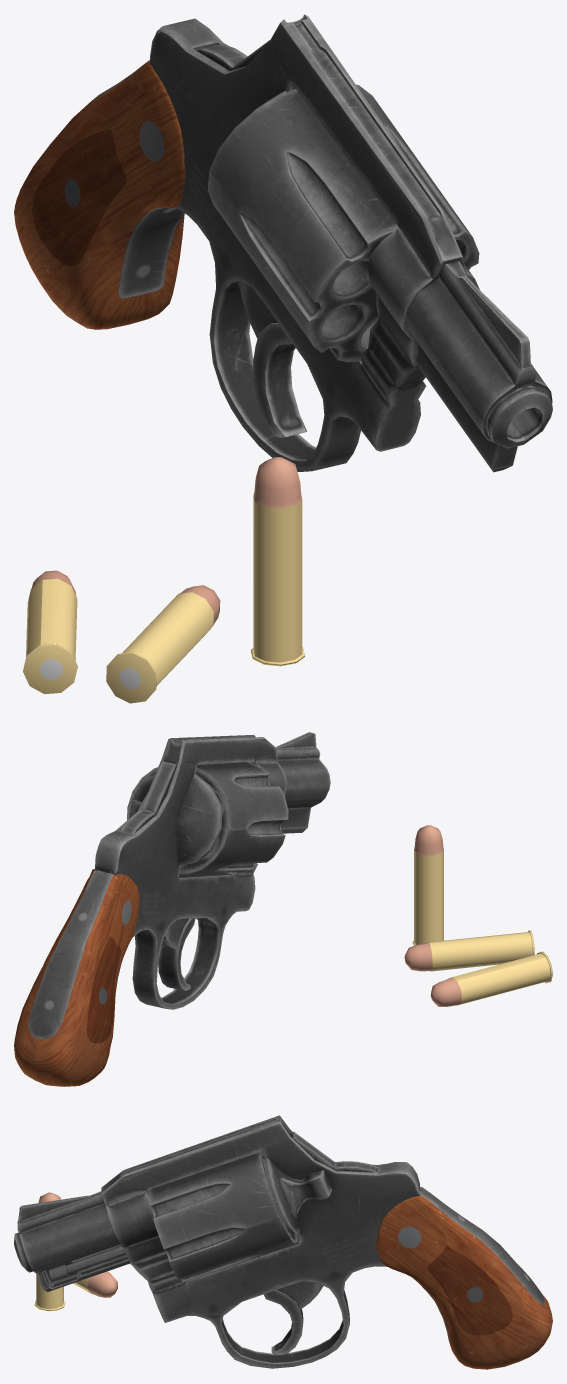
Rendered from revolver.glb.
3 renders of one model, top to bottom at view 1: azimuth 30°, elevation 25°; view 2: azimuth 150°, elevation 25°; view 3: azimuth 270°, elevation 25°, orthographic. The views are drawn at different scales.
Visible parts, largest first — view 1: Revolver13_low, Revolver5_low, Revolver12_low, Revolver4_low, Bullet2_low, Bullet1_low, Bullet3_low, Revolver3_low, Revolver2_low, Revolver15_low; view 2: Revolver13_low, Revolver5_low, Revolver12_low, Bullet1_low, Revolver4_low, Bullet3_low, Bullet2_low, Revolver17_low, Revolver15_low, Revolver3_low, Revolver2_low; view 3: Revolver13_low, Revolver5_low, Revolver12_low, Revolver4_low, Revolver14_low, Revolver3_low, Revolver15_low, Bullet2_low, Revolver16_low, Bullet1_low, Revolver2_low.
Boxes of the visible parts, left/top/right/bottom form: Revolver13_low: left=150, top=14, right=479, bottom=471; Revolver5_low: left=14, top=60, right=185, bottom=329; Revolver12_low: left=207, top=84, right=479, bottom=362; Revolver4_low: left=405, top=261, right=552, bottom=472; Bullet2_low: left=251, top=457, right=304, bottom=666; Bullet1_low: left=106, top=585, right=220, bottom=703; Bullet3_low: left=23, top=570, right=77, bottom=694; Revolver3_low: left=253, top=323, right=306, bottom=437; Revolver2_low: left=237, top=281, right=277, bottom=338; Revolver15_low: left=195, top=40, right=269, bottom=70; Revolver13_low: left=95, top=735, right=287, bottom=1009; Revolver5_low: left=14, top=869, right=139, bottom=1086; Revolver12_low: left=127, top=762, right=288, bottom=874; Bullet1_low: left=404, top=930, right=534, bottom=971; Revolver4_low: left=276, top=732, right=330, bottom=833; Bullet3_low: left=430, top=951, right=552, bottom=1006; Bullet2_low: left=412, top=825, right=443, bottom=945; Revolver17_low: left=177, top=774, right=221, bottom=865; Revolver15_low: left=120, top=761, right=177, bottom=833; Revolver3_low: left=158, top=918, right=195, bottom=991; Revolver2_low: left=161, top=918, right=188, bottom=949; Revolver13_low: left=101, top=1115, right=420, bottom=1368; Revolver5_low: left=376, top=1187, right=552, bottom=1369; Revolver12_low: left=147, top=1151, right=297, bottom=1282; Revolver4_low: left=14, top=1191, right=130, bottom=1291; Revolver14_low: left=262, top=1158, right=331, bottom=1235; Revolver3_low: left=263, top=1290, right=303, bottom=1355; Revolver15_low: left=290, top=1132, right=377, bottom=1172; Bullet2_low: left=34, top=1192, right=65, bottom=1311; Revolver16_low: left=49, top=1246, right=125, bottom=1280; Bullet1_low: left=73, top=1271, right=117, bottom=1297; Revolver2_low: left=277, top=1281, right=323, bottom=1309.
Size of the model in its own units: 0.2342 by 0.1844 by 0.3619.
Materials: 2 (2 with a texture image).
